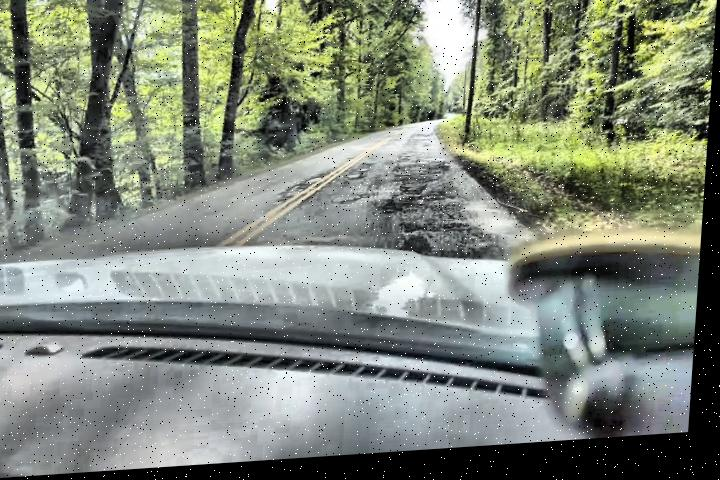pothole: (279, 172, 329, 202)
